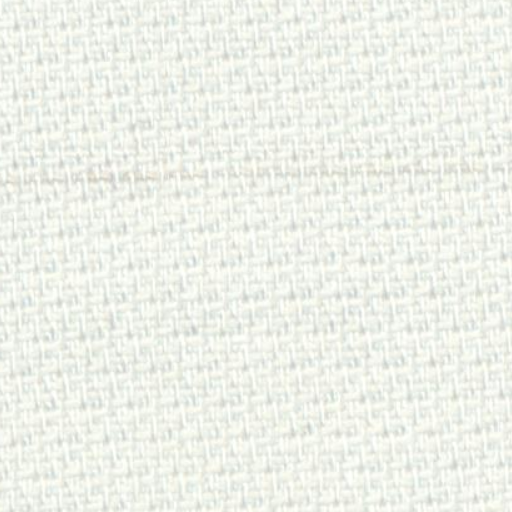WuZi: (24, 158, 440, 186)
